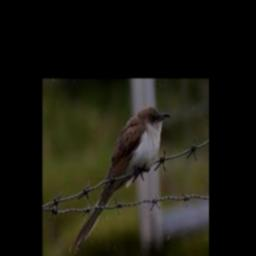Cuckoo: (68, 106, 171, 252)
